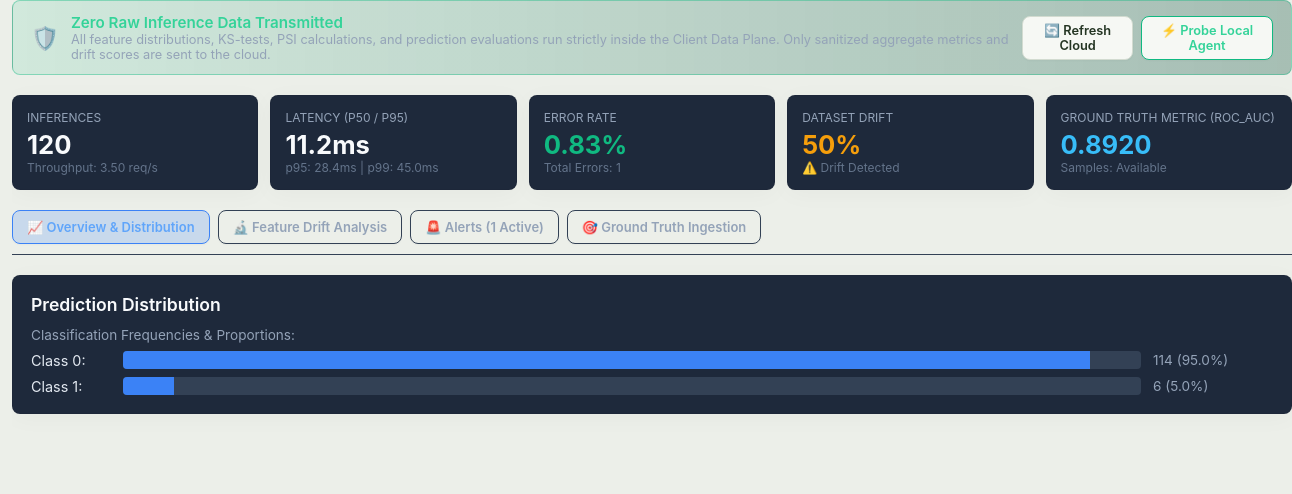
Scenario: MonitoringDashboardView Component › navigates to feature drift tab and renders statistical breakdown
Expected: the text "120" is shown, left=27, top=129, right=71, bottom=160
Click the button "🔬 Feature Drift Analysis" at (310, 227), box left=218, top=210, right=402, bottom=244
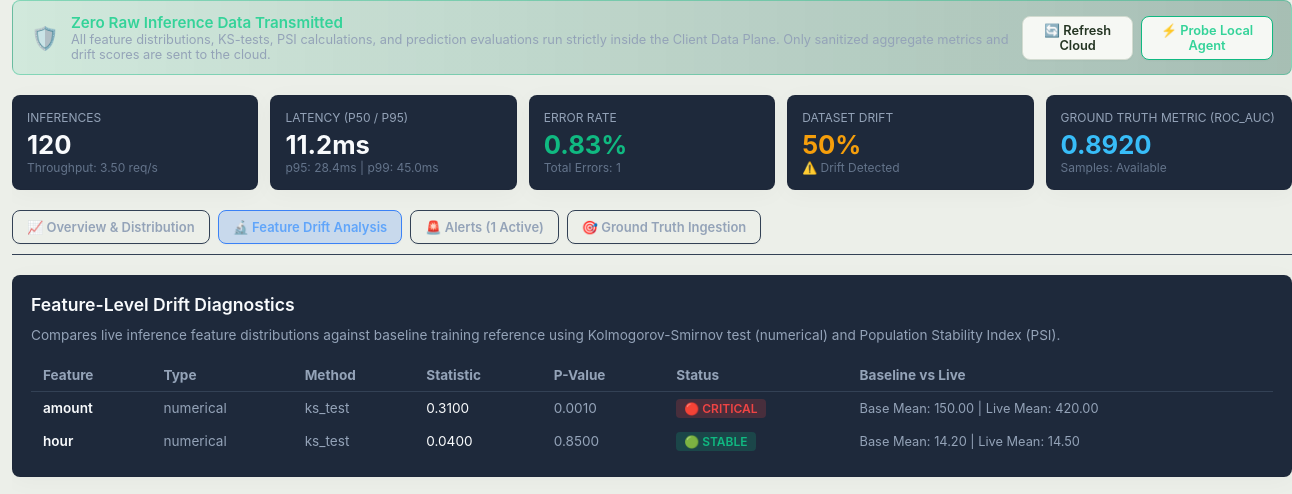
Result: the heading "Feature-Level Drift Diagnostics" is shown at left=31, top=294, right=295, bottom=315
Result: the text "amount" is shown at left=31, top=392, right=152, bottom=424
Result: the text "🔴 CRITICAL" is shown at left=676, top=399, right=766, bottom=418
